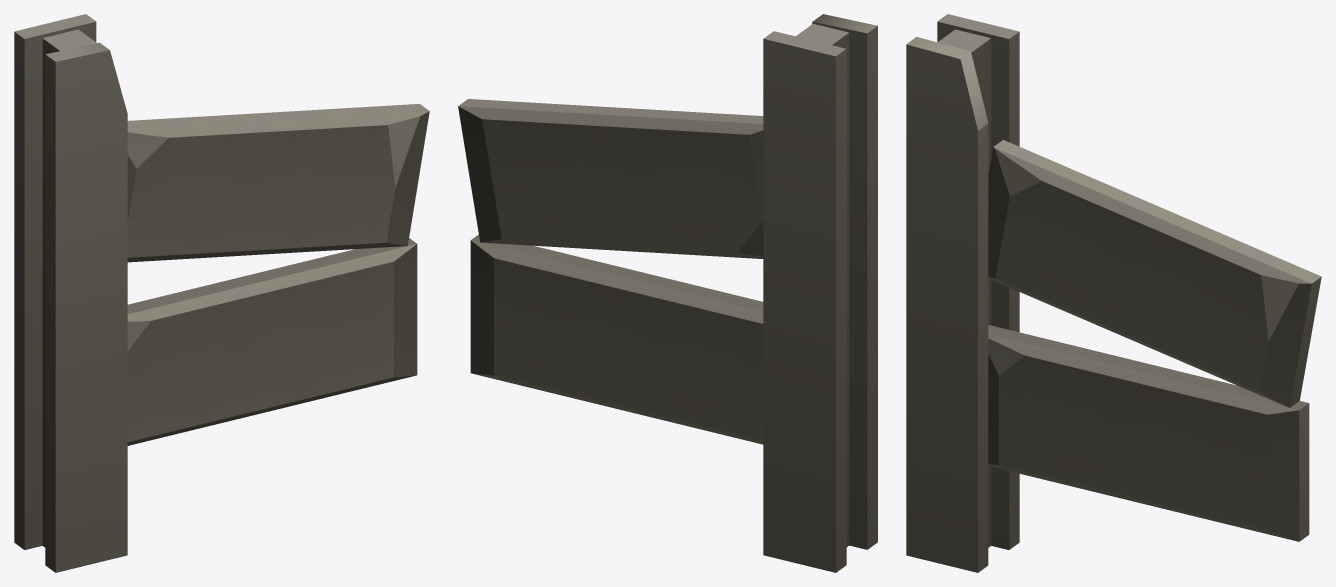
File: Concrete_Fence_1B.fbx
The picture shows the model from 3 angles, left to right: view 1: azimuth 30°, elevation 25°; view 2: azimuth 150°, elevation 25°; view 3: azimuth 330°, elevation 25°; orthographic projection.
Parts seen in each view (by area): view 1: Concrete_Fence_1B; view 2: Concrete_Fence_1B; view 3: Concrete_Fence_1B.
Boxes of the visible parts, <box> form: Concrete_Fence_1B: <box>14,14,429,572</box>; Concrete_Fence_1B: <box>458,14,877,572</box>; Concrete_Fence_1B: <box>906,14,1321,572</box>.
Bounding box in the file's own units: 2.17 × 2.72 × 0.4.
